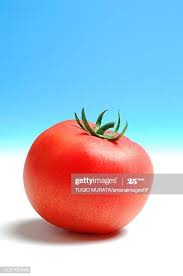tomato: (24, 120, 154, 232)
